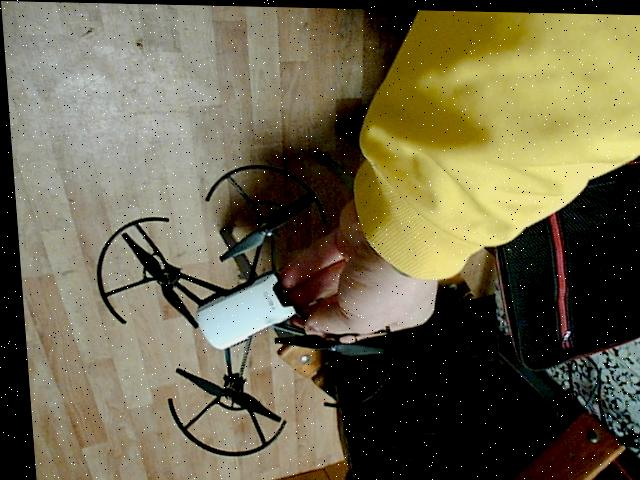drone: (72, 153, 395, 458)
